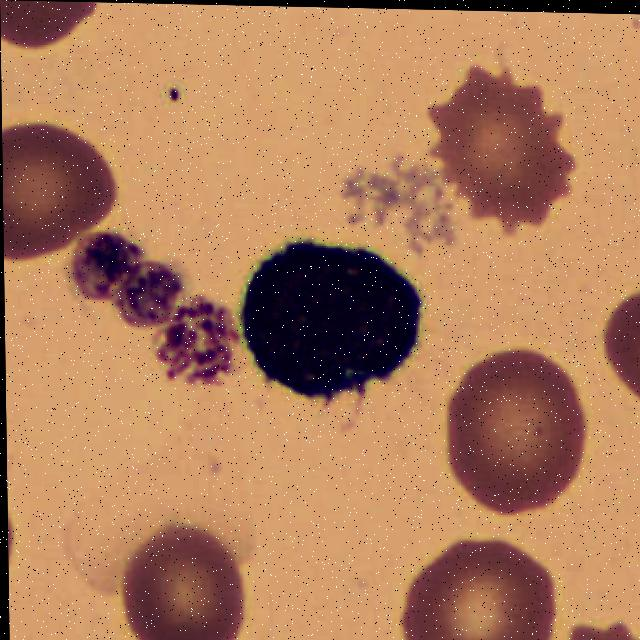lymphocyte: (237, 219, 430, 411)
platelets: (150, 297, 238, 392), (77, 234, 138, 302), (120, 266, 182, 322)
rbc: (428, 63, 577, 214), (444, 354, 588, 509), (2, 118, 119, 268), (397, 542, 549, 640), (114, 530, 238, 640), (0, 0, 99, 46), (603, 278, 640, 395), (561, 623, 640, 640)
